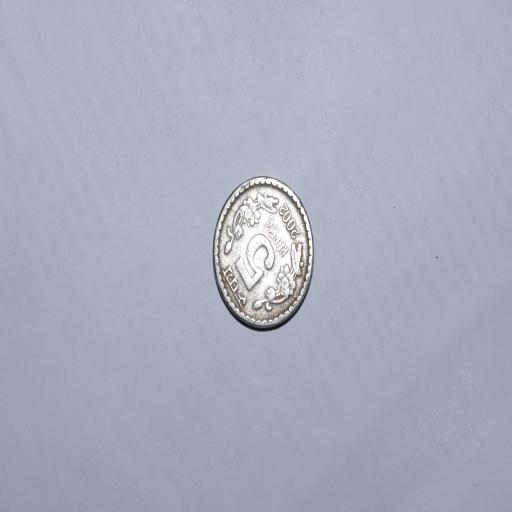rupee5: (210, 174, 317, 332)
